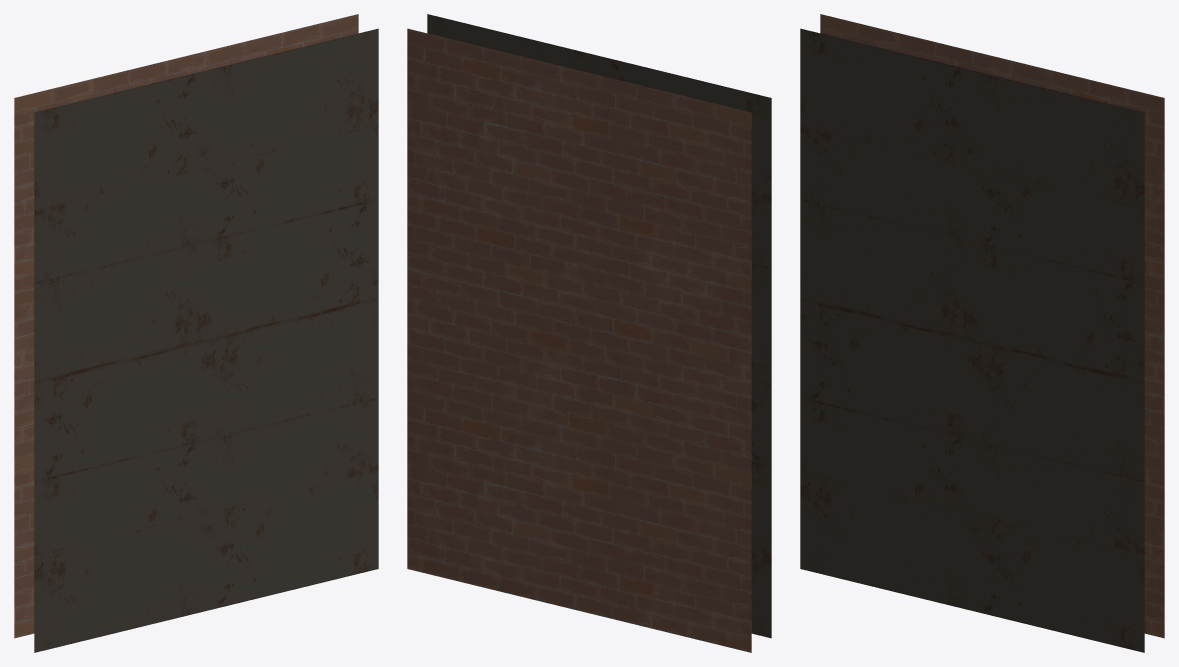
The model's file is Metal_Plain_3.gltf.
3 renders of one model, left to right at view 1: azimuth 30°, elevation 25°; view 2: azimuth 150°, elevation 25°; view 3: azimuth 330°, elevation 25°, orthographic.
Visible parts, largest first — view 1: Metal_Plain_3; view 2: Metal_Plain_3; view 3: Metal_Plain_3.
Boxes of the visible parts, left/top/right/bottom form: Metal_Plain_3: left=14, top=14, right=378, bottom=652; Metal_Plain_3: left=407, top=14, right=771, bottom=652; Metal_Plain_3: left=800, top=14, right=1164, bottom=652.
Size of the model in its own units: 2 by 3 by 0.2.
Materials: 2 (2 with a texture image).
